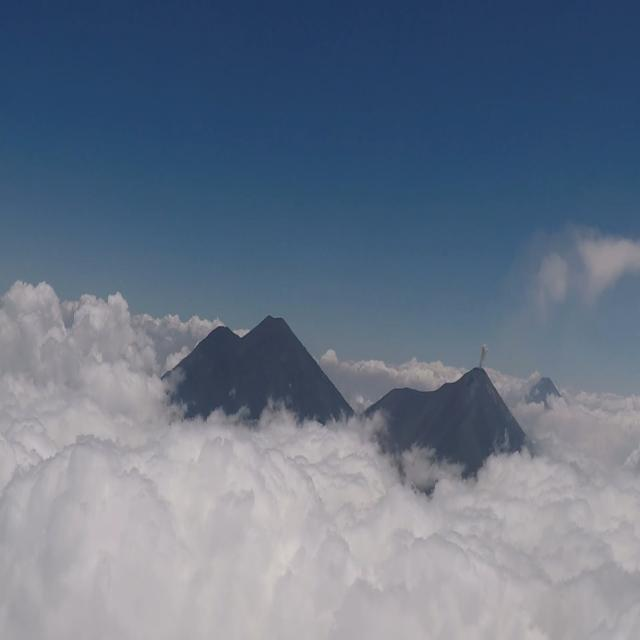Plume: (478, 341, 488, 368)
Summit: (435, 368, 502, 406)
